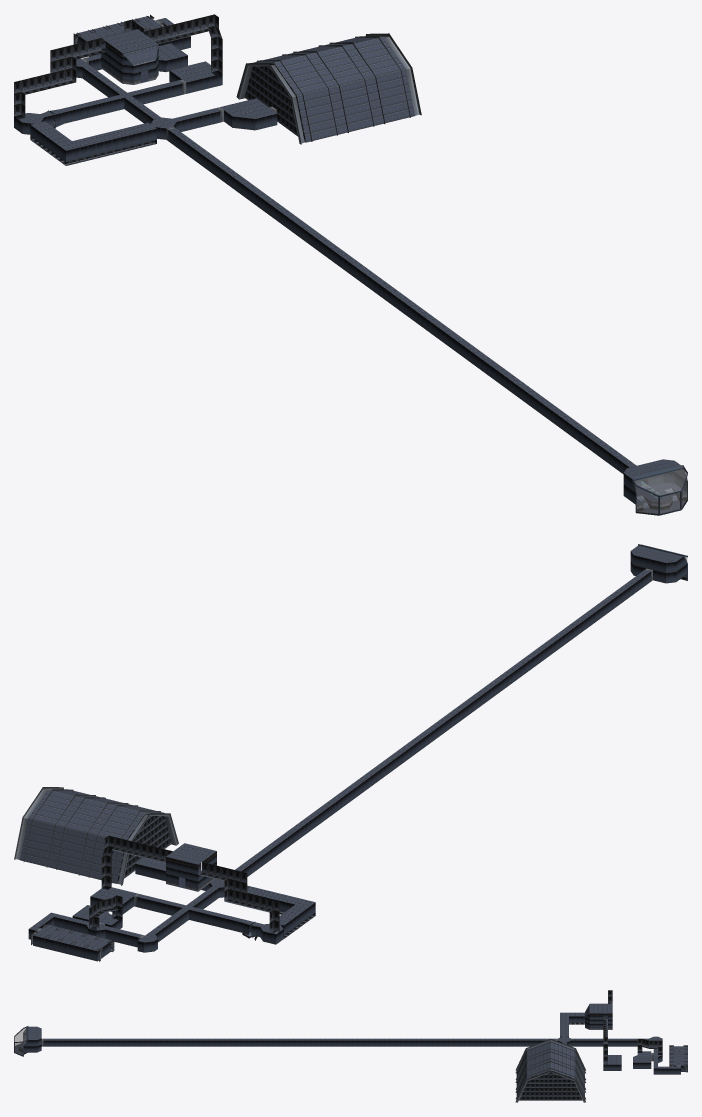
The model's file is level.fbx.
3 views of the same model, one above another, from view 1: azimuth 30°, elevation 25°; view 2: azimuth 150°, elevation 25°; view 3: azimuth 270°, elevation 25° (orthographic). The views are drawn at different scales.
Parts seen in each view (by area): view 1: level; view 2: level; view 3: level.
Boxes of the visible parts, bbox=[...] form: level: bbox=[14, 14, 687, 515]; level: bbox=[14, 544, 687, 961]; level: bbox=[14, 990, 687, 1102].
Size of the model in its own units: 87.5 by 20 by 295.
